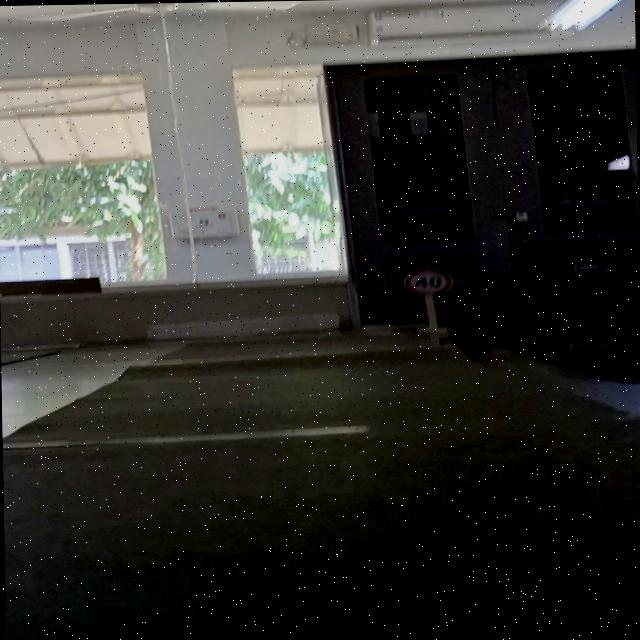Speed40: (401, 266, 456, 296)
